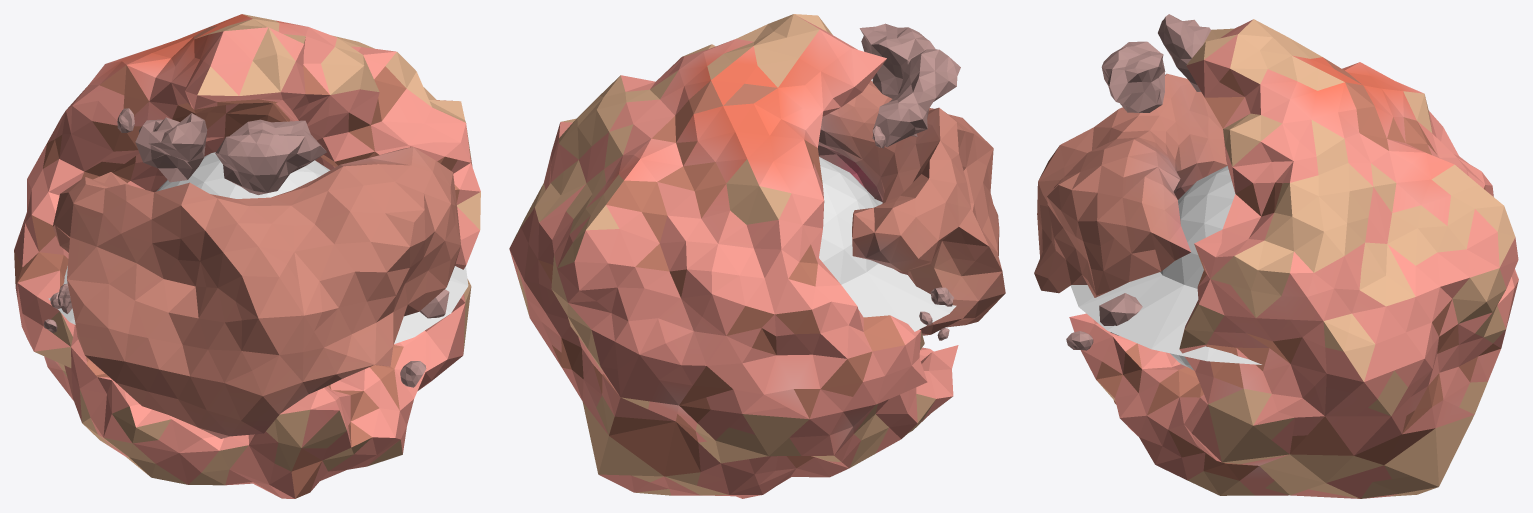
3 renders of one model, left to right at view 1: azimuth 30°, elevation 25°; view 2: azimuth 150°, elevation 25°; view 3: azimuth 270°, elevation 25°, orthographic. The views are drawn at different scales.
Parts seen in each view (by area): view 1: Icosphere.001, Icosphere, Icosphere.003, blackhole-sfx, Icosphere.004, Icosphere.006; view 2: Icosphere, Icosphere.001, blackhole-sfx, Icosphere.004, Icosphere.003; view 3: Icosphere, Icosphere.001, blackhole-sfx, Icosphere.003, Icosphere.004, Icosphere.007.
Part boxes in pixels (x1,y1,x2,y2): Icosphere.001: (52, 147, 460, 438); Icosphere: (14, 14, 480, 498); Icosphere.003: (215, 119, 326, 194); blackhole-sfx: (48, 152, 468, 343); Icosphere.004: (135, 113, 207, 182); Icosphere.006: (400, 361, 426, 387); Icosphere: (509, 14, 958, 498); Icosphere.001: (818, 80, 1005, 335); blackhole-sfx: (819, 157, 956, 331); Icosphere.004: (872, 49, 960, 147); Icosphere.003: (859, 23, 935, 98); Icosphere: (1069, 19, 1518, 498); Icosphere.001: (1034, 73, 1227, 297); blackhole-sfx: (1070, 165, 1261, 370); Icosphere.003: (1101, 41, 1165, 112); Icosphere.004: (1158, 14, 1210, 91); Icosphere.007: (1099, 293, 1142, 335).
Size of the model in its own units: 2073 by 2117 by 2105.
